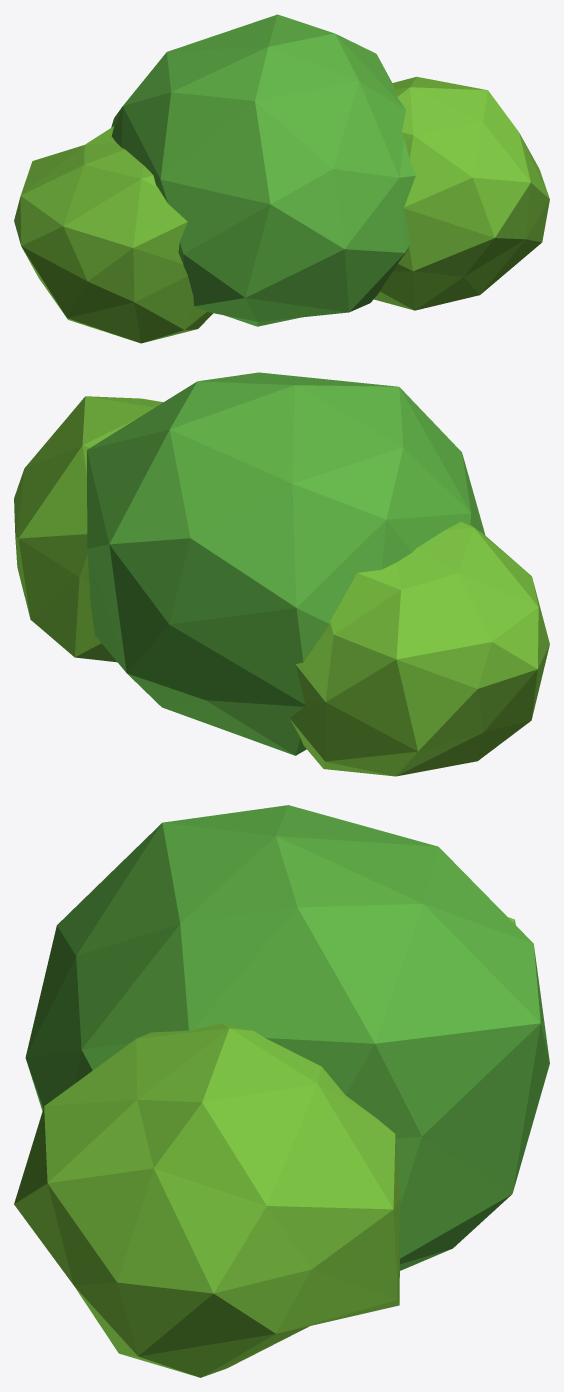
File: arbusto_v1.glb
3 views of the same model, one above another, from view 1: azimuth 30°, elevation 25°; view 2: azimuth 150°, elevation 25°; view 3: azimuth 270°, elevation 25° (orthographic). The views are drawn at different scales.
Parts seen in each view (by area): view 1: bola_1, bola_3, bola_2; view 2: bola_1, bola_3, bola_2; view 3: bola_1, bola_2.
Boxes of the visible parts, <box> form: bola_1: <box>111,14,415,326</box>; bola_3: <box>14,126,212,343</box>; bola_2: <box>374,76,549,310</box>; bola_1: <box>87,372,485,755</box>; bola_3: <box>289,522,549,776</box>; bola_2: <box>14,396,163,662</box>; bola_1: <box>25,805,549,1270</box>; bola_2: <box>14,1023,400,1377</box>.
Bounding box in the file's own units: 2.17 × 1.24 × 1.35.
